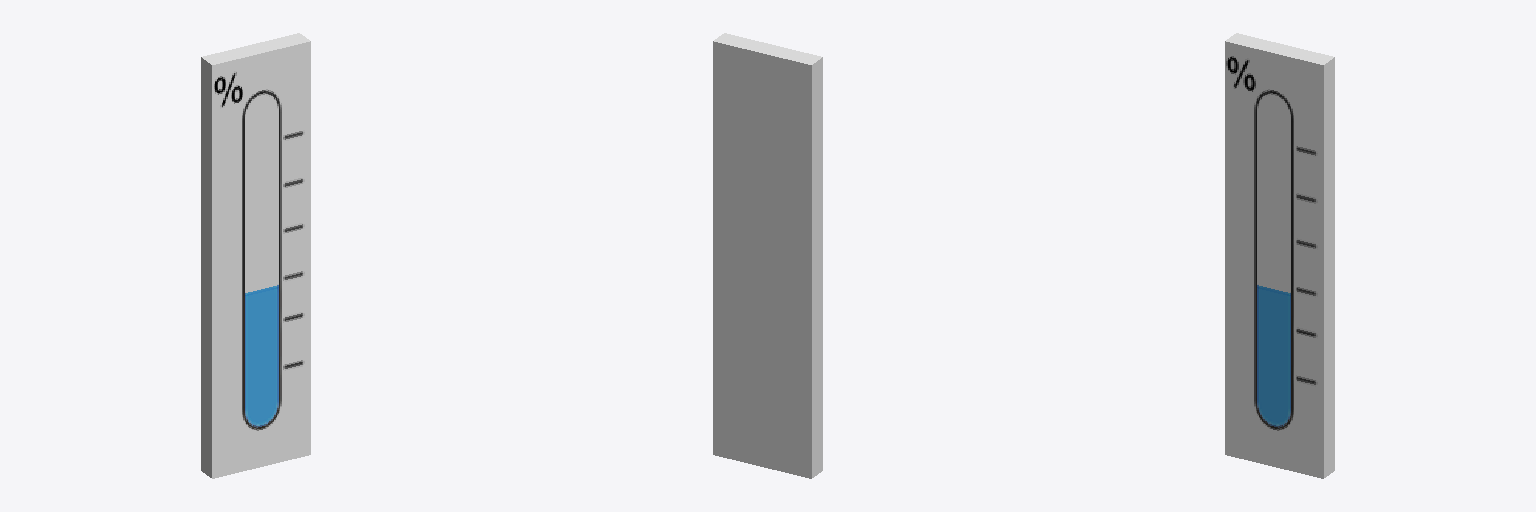
3 views of the same model, side by side, from view 1: azimuth 30°, elevation 25°; view 2: azimuth 150°, elevation 25°; view 3: azimuth 330°, elevation 25° (orthographic).
Visible parts, largest first — view 1: hygrometer; view 2: hygrometer; view 3: hygrometer.
Boxes of the visible parts, box(x1,y1,x2,y2) form: hygrometer: box(201, 33, 310, 478); hygrometer: box(713, 33, 822, 478); hygrometer: box(1225, 33, 1334, 478).
Size of the model in its own units: 2 by 8 by 0.4.
Materials: 2 (1 with a texture image).